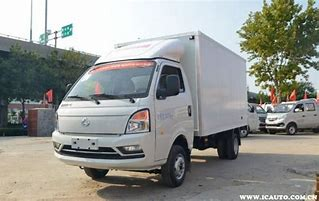smalltruck: (53, 29, 256, 184)
